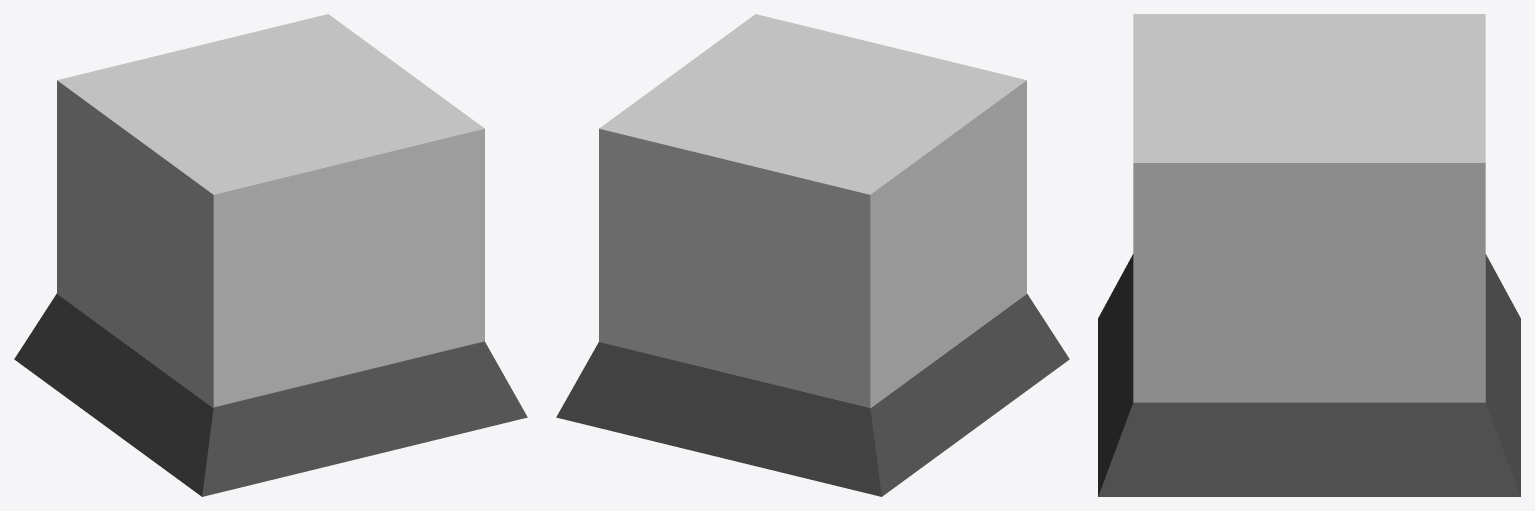
Rendered from switch.gltf.
The picture shows the model from 3 angles, left to right: view 1: azimuth 30°, elevation 25°; view 2: azimuth 150°, elevation 25°; view 3: azimuth 270°, elevation 25°; orthographic projection. The views are drawn at different scales.
Parts seen in each view (by area): view 1: Cube.001; view 2: Cube.001; view 3: Cube.001.
Boxes of the visible parts, box(x1,y1,x2,y2) form: Cube.001: box(14, 14, 527, 496); Cube.001: box(556, 14, 1069, 496); Cube.001: box(1098, 14, 1520, 496).
Size of the model in its own units: 2.4 by 2 by 2.4.
1 material, 1 textured.
